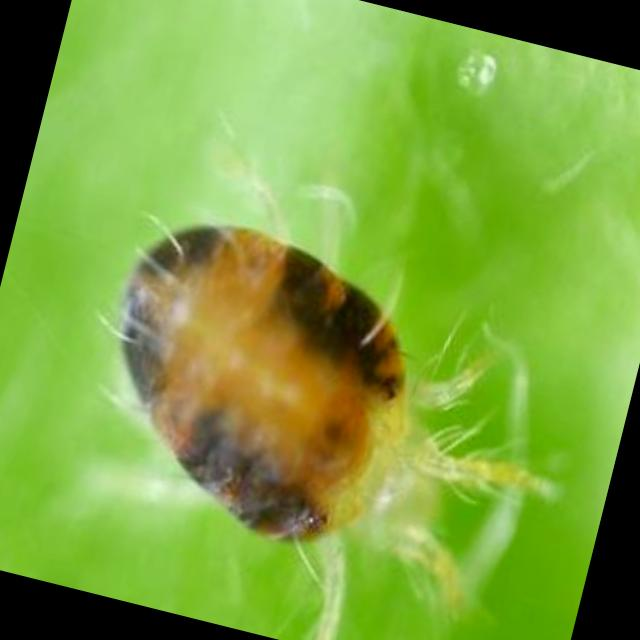spider mite: (0, 62, 640, 640)
